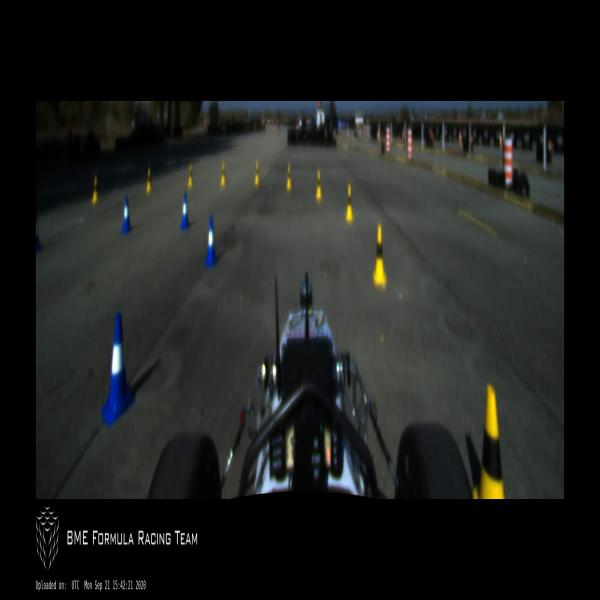blue_cone: (101, 313, 136, 427), (205, 216, 217, 266), (120, 195, 134, 235), (180, 193, 191, 231), (36, 214, 42, 252)
yellow_cone: (472, 384, 506, 499), (373, 223, 387, 285), (345, 184, 354, 222), (91, 176, 98, 203), (316, 169, 322, 200), (286, 164, 292, 189), (146, 168, 151, 193), (255, 162, 260, 186), (220, 162, 225, 186), (188, 164, 193, 188)
